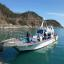fishing boat: (0, 19, 58, 54)
